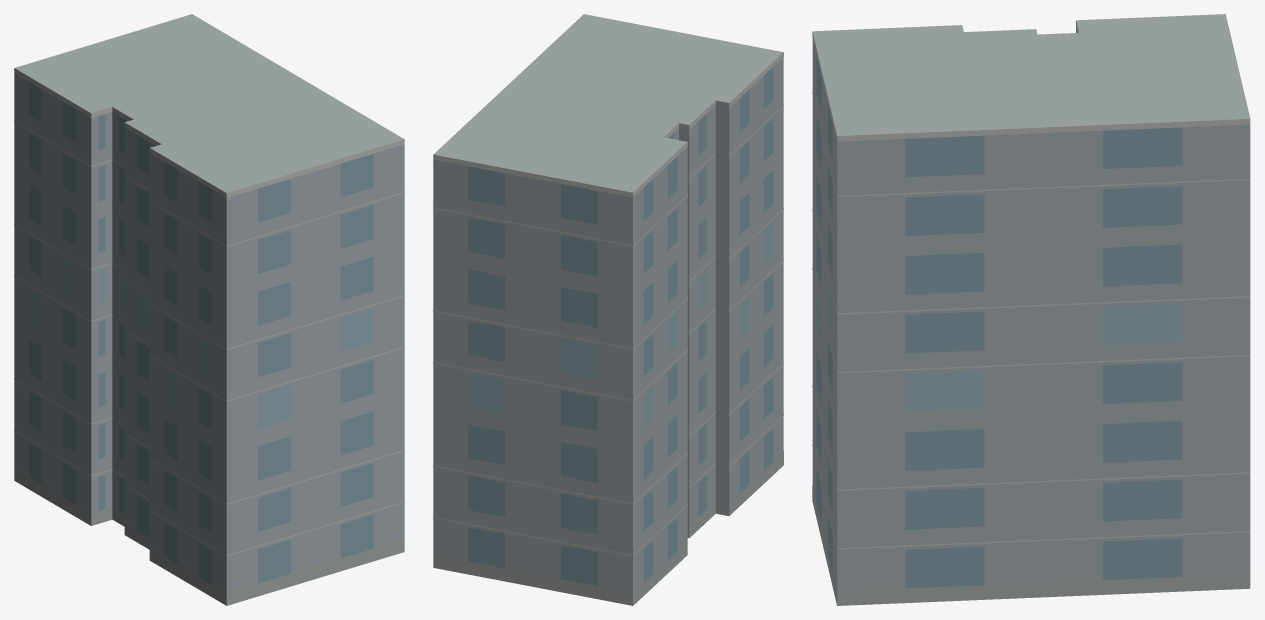
File: survey-upis-32654455.glb
3 renders of one model, left to right at view 1: azimuth 30°, elevation 25°; view 2: azimuth 150°, elevation 25°; view 3: azimuth 270°, elevation 25°, orthographic. The views are drawn at different scales.
Parts seen in each view (by area): view 1: survey-upis-32654455.tmp; view 2: survey-upis-32654455.tmp; view 3: survey-upis-32654455.tmp.
Boxes of the visible parts, <box> form: survey-upis-32654455.tmp: <box>14,14,404,605</box>; survey-upis-32654455.tmp: <box>433,14,783,605</box>; survey-upis-32654455.tmp: <box>812,14,1250,605</box>.
Size of the model in its own units: 11.28 by 20.2 by 17.09.
